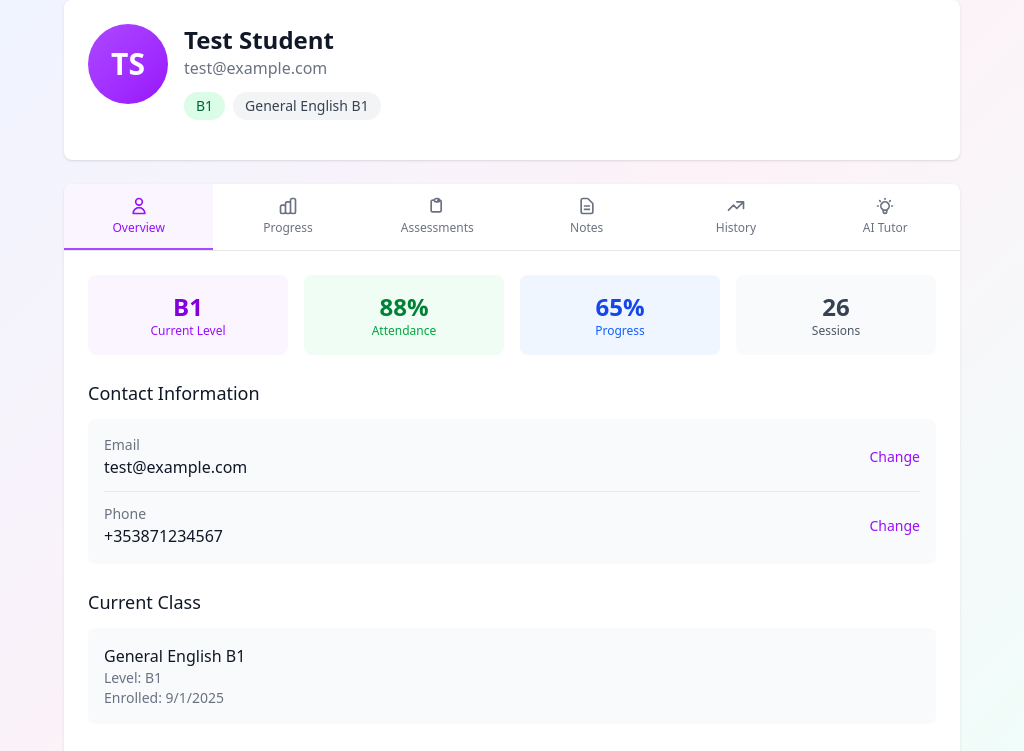
Test: StudentProfilePage › should switch tabs when clicked
The first one is the tab button in the nav
What coordinates should you click on to do the following:
click the button "Progress"
I would click on:
 (288, 217)
Its box is [213,184,363,250].
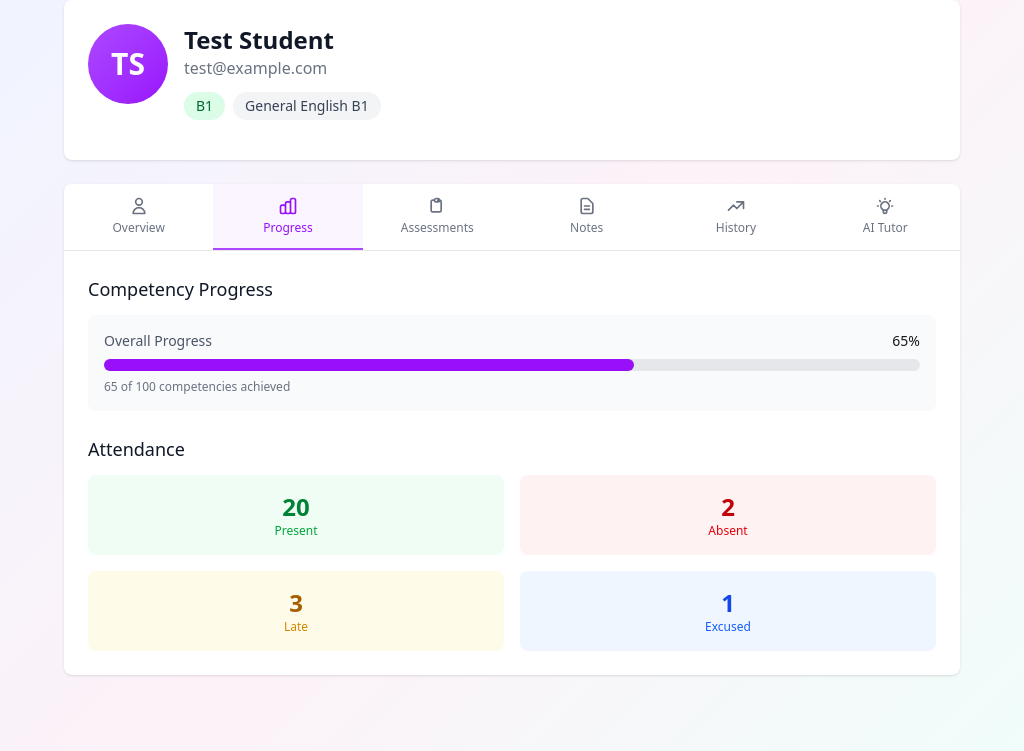
Expected: the heading "Competency Progress" is shown, [88,277,273,301]
